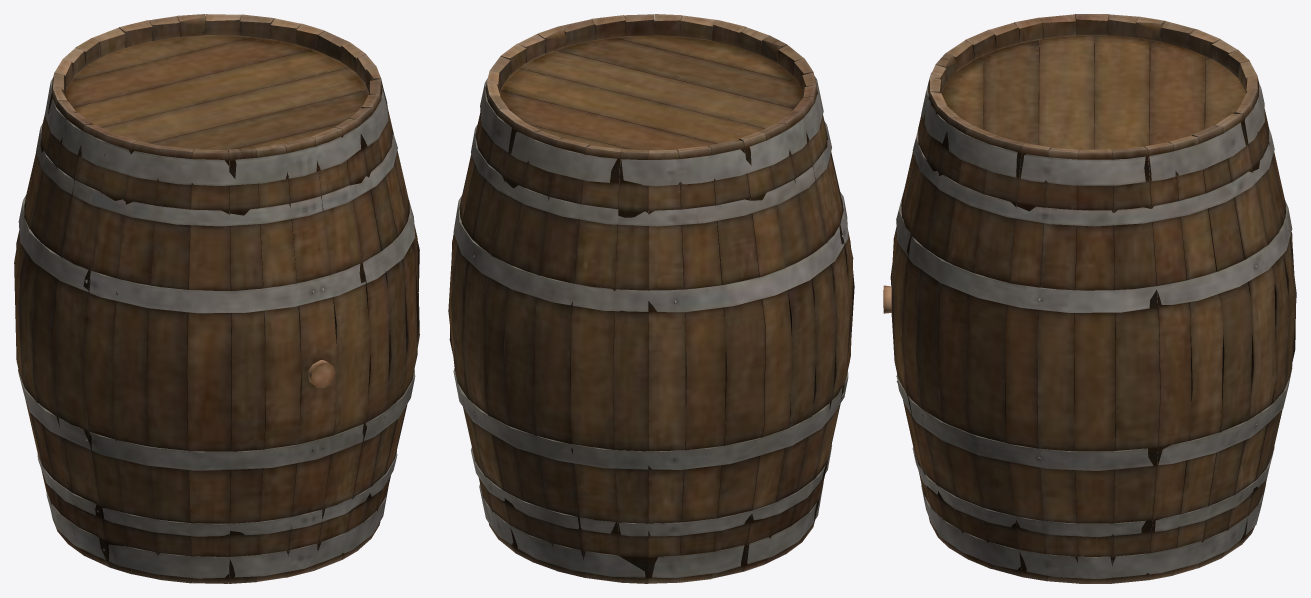
File: wine_barrel_01.glb
3 views of the same model, side by side, from view 1: azimuth 30°, elevation 25°; view 2: azimuth 150°, elevation 25°; view 3: azimuth 270°, elevation 25° (orthographic).
Visible parts, largest first — view 1: wine_barrel_01; view 2: wine_barrel_01; view 3: wine_barrel_01.
Part boxes in pixels (x1,y1,x2,y2): wine_barrel_01: (14,14,419,583); wine_barrel_01: (448,14,854,583); wine_barrel_01: (883,14,1296,583).
Size of the model in its own units: 0.7422 by 0.8702 by 0.7557.
1 material, 1 textured.
